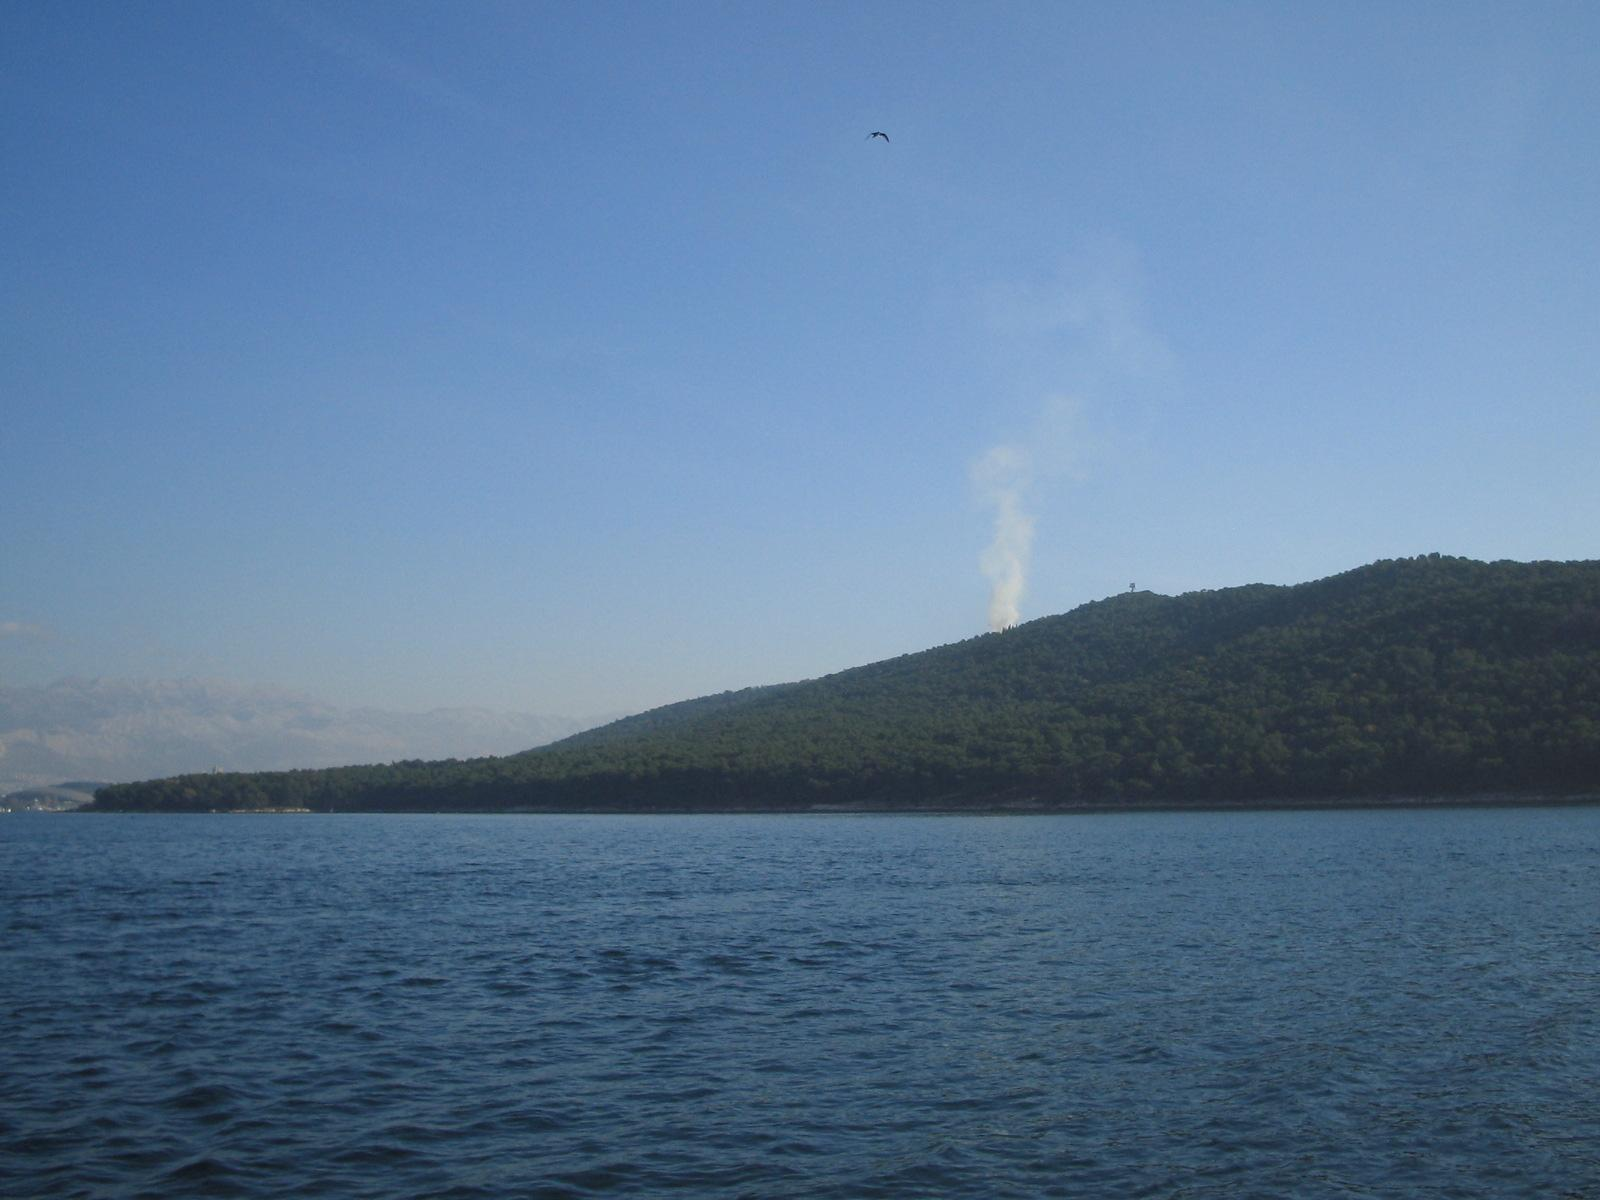Smoke: (957, 379, 1028, 632)
